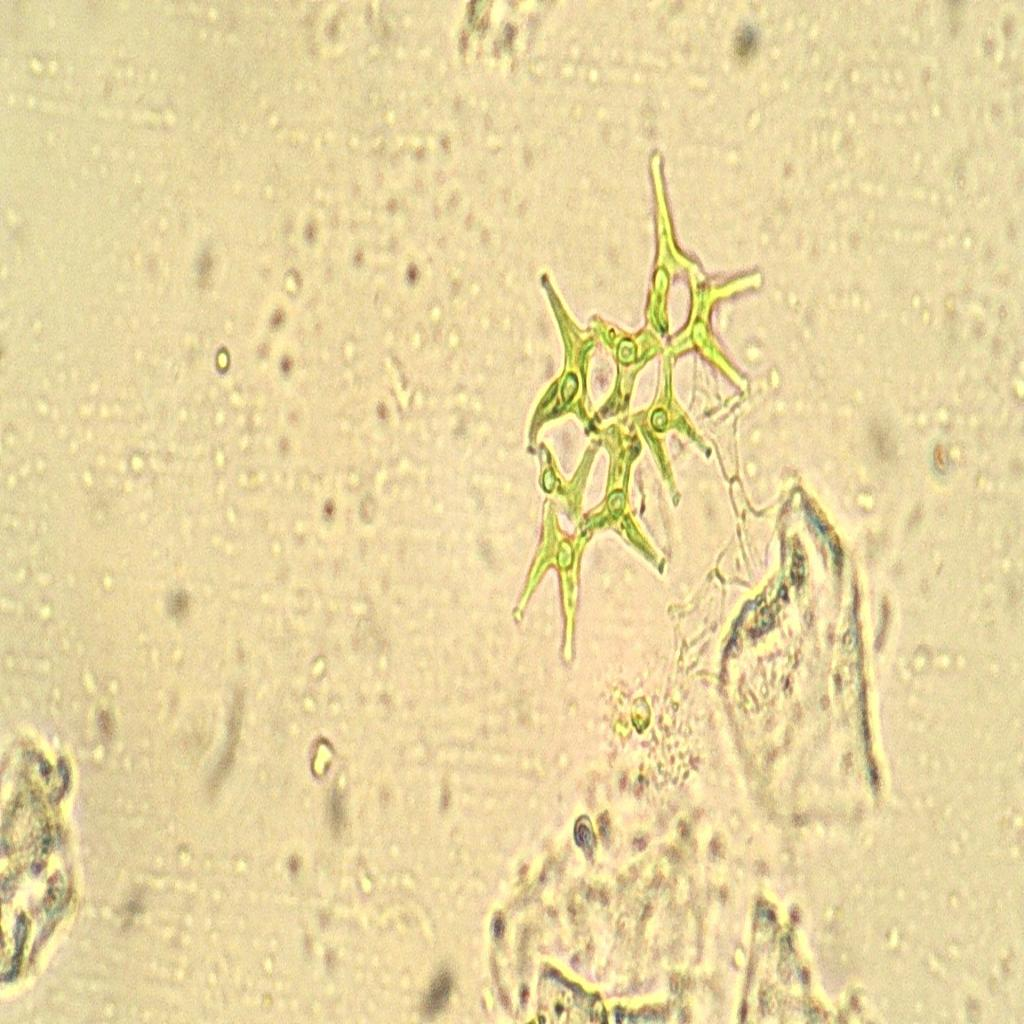Pediastrum_CFI: (504, 143, 770, 689)
